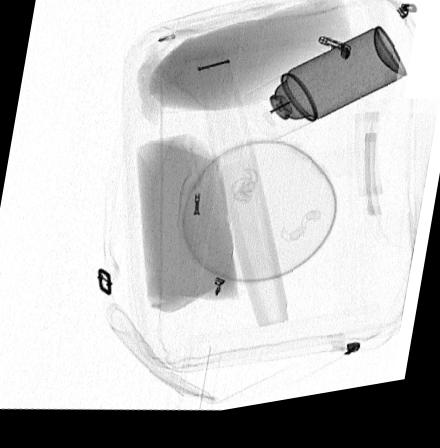Sprayer: (243, 38, 406, 150)
